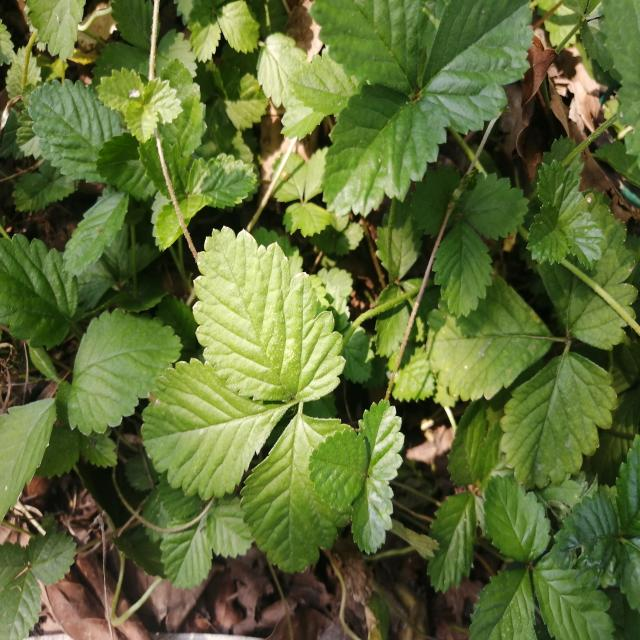Mock_strawberry: (175, 235, 424, 542)
